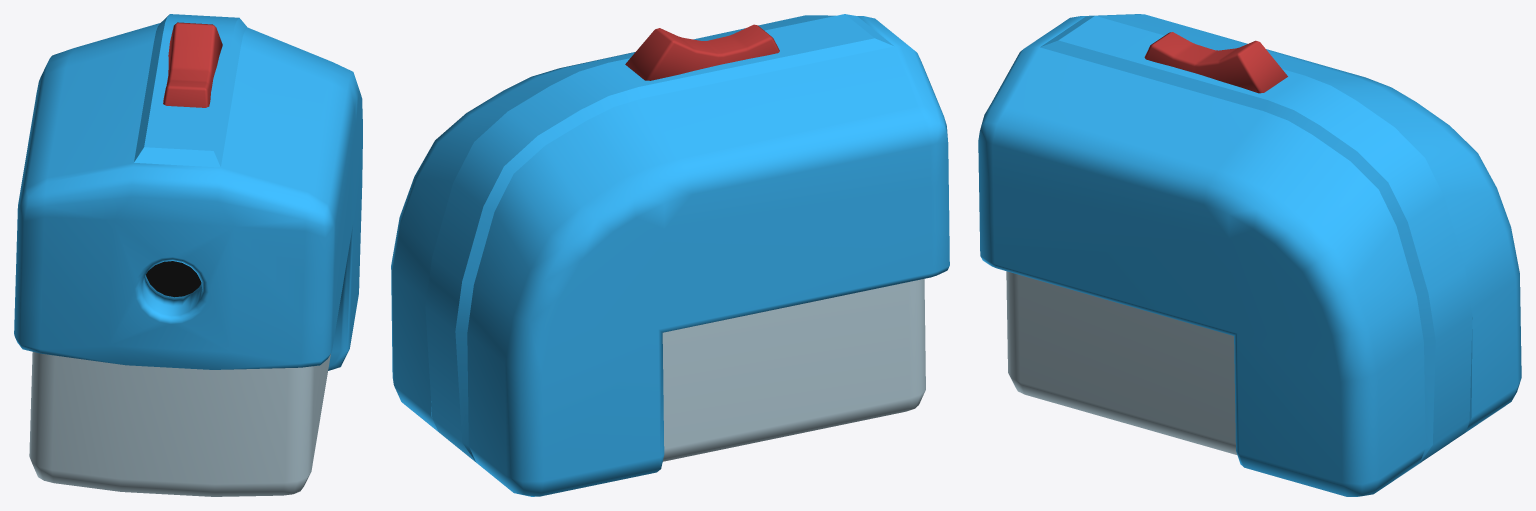
Rendered from PencilSharpener.fbx.
The picture shows the model from 3 angles, left to right: view 1: azimuth 30°, elevation 25°; view 2: azimuth 150°, elevation 25°; view 3: azimuth 270°, elevation 25°; orthographic projection. The views are drawn at different scales.
Parts seen in each view (by area): view 1: pCube26, pCube24, pCube28, pCube27; view 2: pCube26, pCube24, pCube28; view 3: pCube26, pCube24, pCube28.
Boxes of the visible parts, <box> form: pCube26: <box>14,14,362,370</box>; pCube24: <box>29,352,330,496</box>; pCube28: <box>163,22,222,107</box>; pCube27: <box>146,261,201,297</box>; pCube26: <box>391,14,949,496</box>; pCube24: <box>662,279,925,461</box>; pCube28: <box>625,24,779,80</box>; pCube26: <box>978,14,1521,496</box>; pCube24: <box>1006,271,1237,454</box>; pCube28: <box>1144,32,1287,93</box>.
Bounding box in the file's own units: 0.2228 × 0.1833 × 0.2461.
